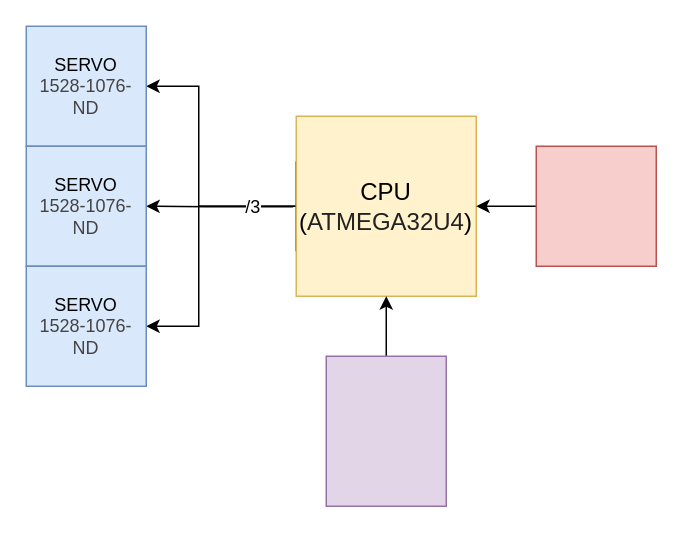
Some shapes in this 683 by 533 pixel diagram are drawn without their labels. The shapes that lost their labels are listed below. From the top down, each one's centre as x and y in pixels, then its label:
At pixel 595 205: "USB-B (VCC)".
At pixel 385 430: "RANGE FINGER GP2Y0D21YK0F".
